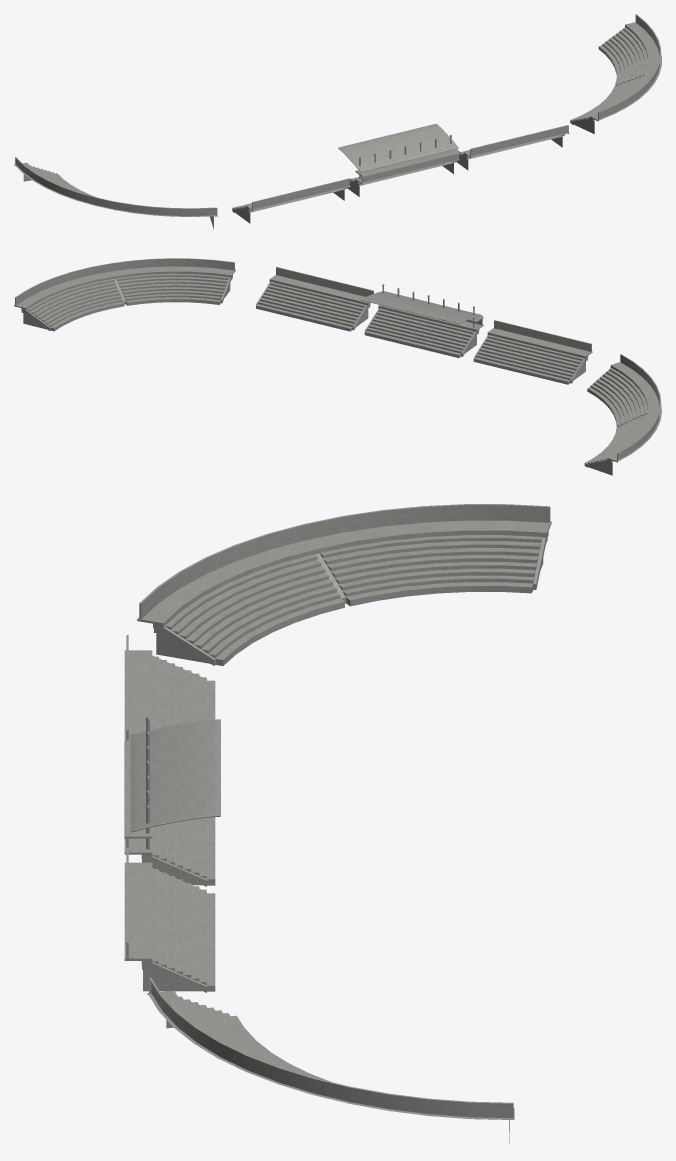
The model's file is tokyo_track_stands.dae.
The picture shows the model from 3 angles, top to bottom: view 1: azimuth 30°, elevation 25°; view 2: azimuth 150°, elevation 25°; view 3: azimuth 270°, elevation 25°; orthographic projection. The views are drawn at different scales.
Visible parts, largest first — view 1: stand_01, stand_05, stand_04, stand_03, stand_02; view 2: stand_05, stand_01, stand_04, stand_03, stand_02; view 3: stand_04, stand_01, stand_02, stand_05, stand_03.
Boxes of the visible parts, x1=… form: stand_01: x1=338, y1=123, x2=460, y2=196; stand_05: x1=570, y1=14, x2=661, y2=133; stand_04: x1=14, y1=157, x2=217, y2=229; stand_03: x1=232, y1=178, x2=351, y2=223; stand_02: x1=455, y1=125, x2=569, y2=170; stand_05: x1=14, y1=258, x2=235, y2=331; stand_01: x1=361, y1=284, x2=483, y2=357; stand_04: x1=584, y1=354, x2=661, y2=475; stand_03: x1=473, y1=320, x2=592, y2=384; stand_02: x1=256, y1=267, x2=373, y2=331; stand_04: x1=137, y1=504, x2=551, y2=665; stand_01: x1=124, y1=716, x2=220, y2=886; stand_02: x1=124, y1=847, x2=215, y2=992; stand_05: x1=147, y1=977, x2=514, y2=1143; stand_03: x1=124, y1=635, x2=215, y2=740.
Bounding box in the file's own units: 366 × 22.48 × 110.
Materials: 2 (2 with a texture image).
